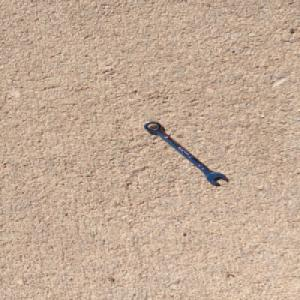Wrench: (141, 120, 230, 186)
